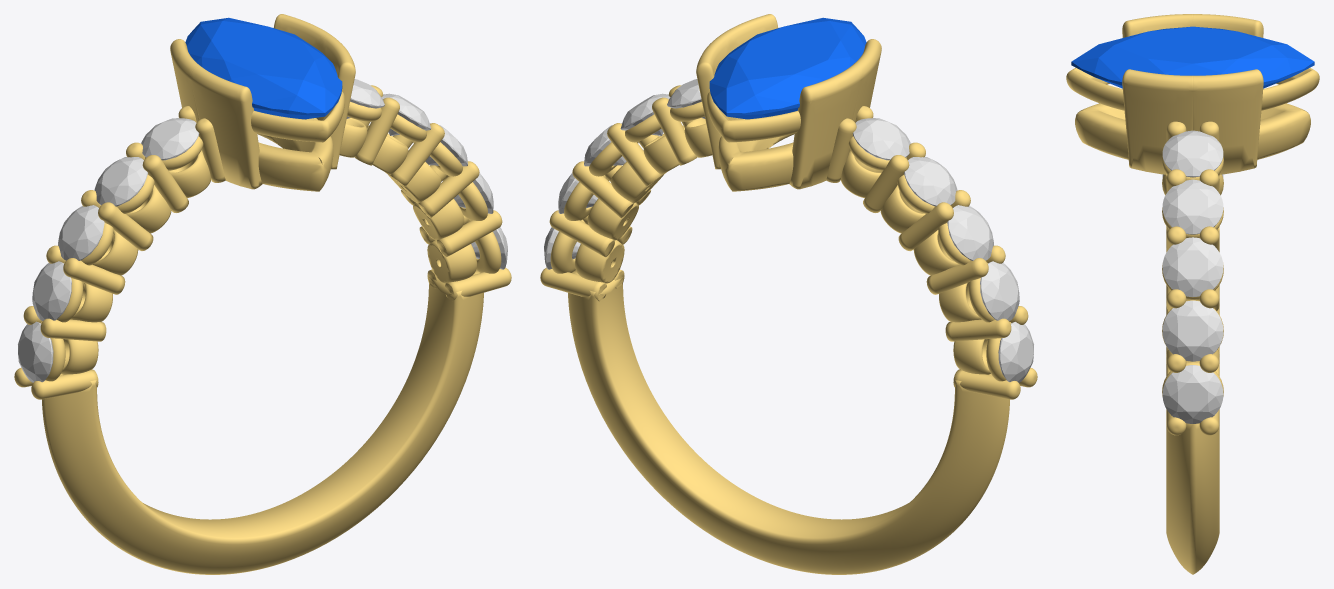
The model's file is bluesapphire-marquise-yellowgold-halfmoonbezel-knifeedge-11stone.glb.
3 views of the same model, side by side, from view 1: azimuth 30°, elevation 25°; view 2: azimuth 150°, elevation 25°; view 3: azimuth 270°, elevation 25° (orthographic). The views are drawn at different scales.
Visible parts, largest first — view 1: metal.003, stone.002, side.022, side.023, side.021, side.024, side.020, side.028, side.029; view 2: metal.003, stone.002, side.022, side.023, side.021, side.024, side.020, side.028, side.029; view 3: metal.003, stone.002, side.026, side.027, side.025, side.028, side.029.
Boxes of the visible parts, x1,y1,x2,y2 form: metal.003: [14, 14, 511, 574]; stone.002: [185, 17, 342, 119]; side.022: [58, 205, 104, 260]; side.023: [94, 157, 147, 206]; side.021: [32, 261, 71, 320]; side.024: [141, 118, 199, 160]; side.020: [18, 321, 53, 382]; side.028: [381, 93, 431, 135]; side.029: [346, 79, 384, 118]; metal.003: [540, 14, 1037, 574]; stone.002: [709, 17, 866, 119]; side.022: [947, 205, 993, 260]; side.023: [904, 157, 957, 206]; side.021: [980, 261, 1019, 320]; side.024: [852, 118, 910, 160]; side.020: [998, 321, 1033, 382]; side.028: [620, 93, 670, 135]; side.029: [667, 79, 705, 118]; metal.003: [1066, 14, 1319, 574]; stone.002: [1071, 26, 1314, 88]; side.026: [1162, 300, 1223, 361]; side.027: [1162, 237, 1223, 296]; side.025: [1162, 365, 1223, 423]; side.028: [1162, 179, 1223, 234]; side.029: [1162, 130, 1223, 177].
Size of the model in its own units: 22.1 by 22.93 by 10.4.
